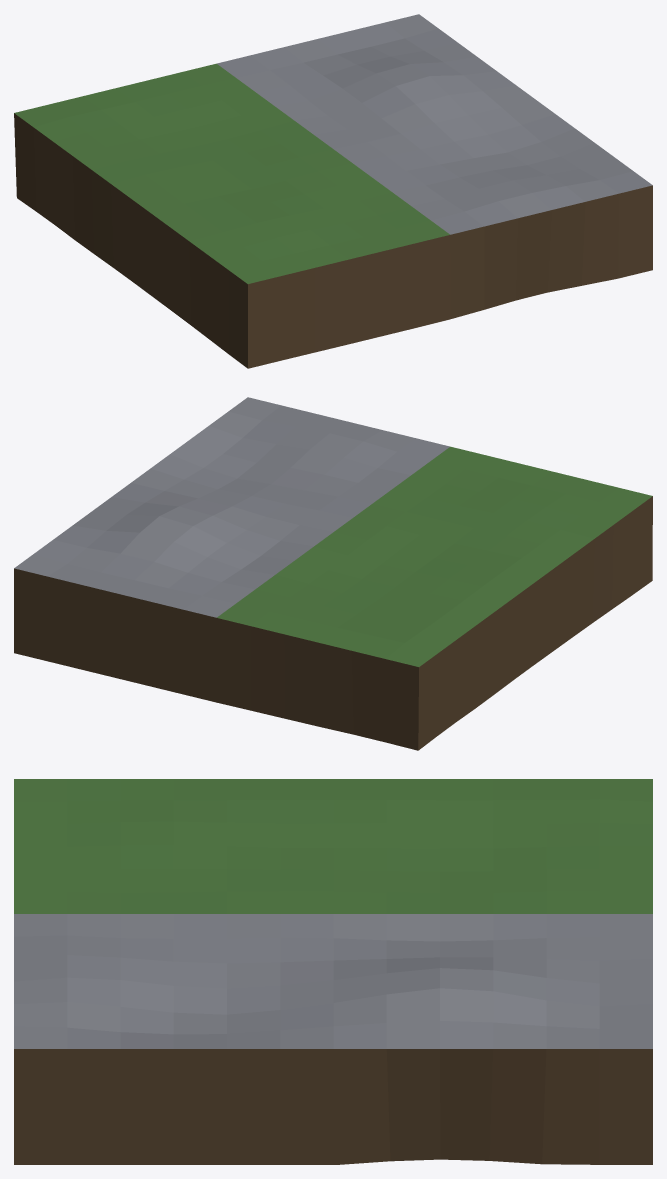
File: grass_rock_edge.glb
The picture shows the model from 3 angles, top to bottom: view 1: azimuth 30°, elevation 25°; view 2: azimuth 150°, elevation 25°; view 3: azimuth 270°, elevation 25°; orthographic projection. The views are drawn at different scales.
Visible parts, largest first — view 1: Grid; view 2: Grid; view 3: Grid.
Boxes of the visible parts, <box> form: Grid: <box>14,14,652,368</box>; Grid: <box>14,397,652,750</box>; Grid: <box>14,779,652,1164</box>.
Bounding box in the file's own units: 1 × 0.2274 × 1.
